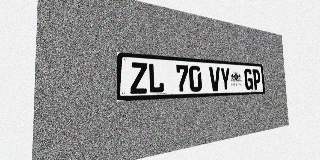0: (189, 65, 202, 92)
7: (175, 65, 189, 92)
G: (244, 69, 253, 90)
L: (148, 63, 164, 93)
P: (252, 69, 261, 90)
V: (209, 67, 221, 91)
Y: (220, 67, 231, 91)
Z: (130, 62, 148, 94)
